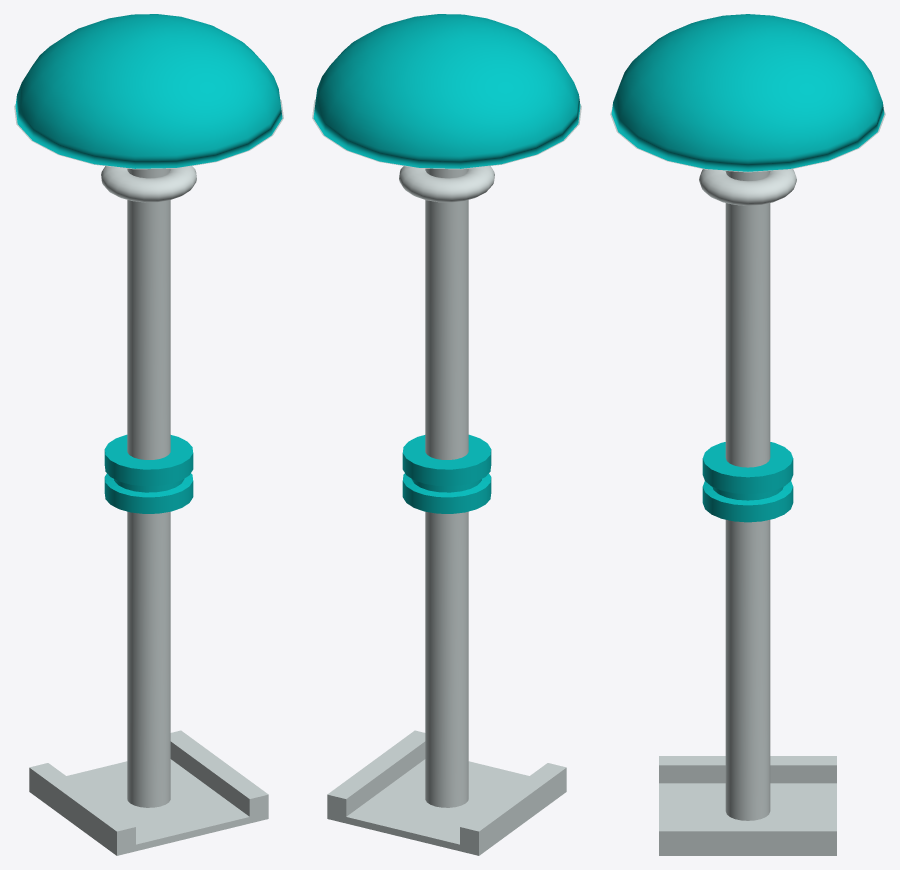
Rendered from sensin_komono1.fbx.
The picture shows the model from 3 angles, left to right: view 1: azimuth 30°, elevation 25°; view 2: azimuth 150°, elevation 25°; view 3: azimuth 270°, elevation 25°; orthographic projection.
Parts seen in each view (by area): view 1: pasted__pSphere1, pasted__pCylinder11, pCube1, pasted__pCylinder12, pasted__pTorus1; view 2: pasted__pSphere1, pasted__pCylinder11, pCube1, pasted__pCylinder12, pasted__pTorus1; view 3: pasted__pSphere1, pasted__pCylinder11, pCube1, pasted__pCylinder12, pasted__pTorus1.
Part boxes in pixels (left/top/right/bottom): pasted__pSphere1: left=15, top=14, right=282, bottom=168; pasted__pCylinder11: left=14, top=99, right=283, bottom=807; pCube1: left=29, top=730, right=268, bottom=855; pasted__pCylinder12: left=104, top=434, right=193, bottom=513; pasted__pTorus1: left=101, top=166, right=196, bottom=202; pasted__pSphere1: left=313, top=14, right=580, bottom=168; pasted__pCylinder11: left=312, top=99, right=581, bottom=807; pCube1: left=327, top=730, right=566, bottom=855; pasted__pCylinder12: left=402, top=434, right=491, bottom=513; pasted__pTorus1: left=399, top=166, right=494, bottom=202; pasted__pSphere1: left=611, top=14, right=884, bottom=171; pasted__pCylinder11: left=610, top=109, right=885, bottom=820; pCube1: left=659, top=756, right=836, bottom=855; pasted__pCylinder12: left=702, top=442, right=793, bottom=522; pasted__pTorus1: left=699, top=169, right=796, bottom=205.
Bounding box in the file's own units: 287 × 901 × 287.
